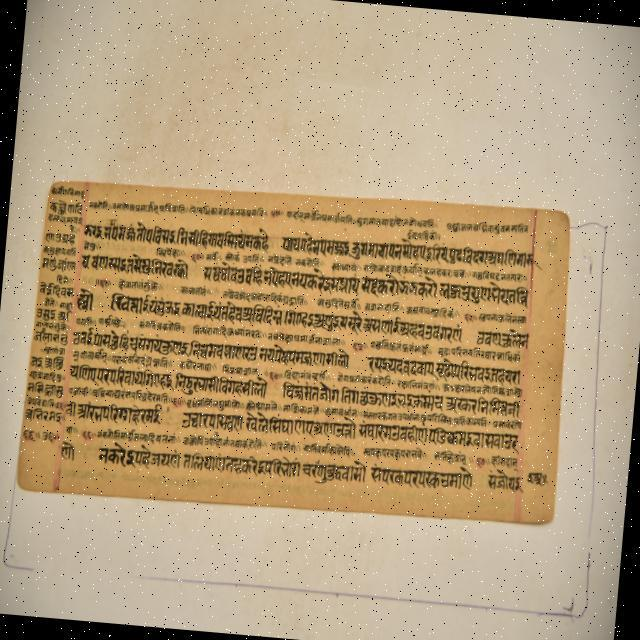text_paragraph: (10, 177, 569, 525)
